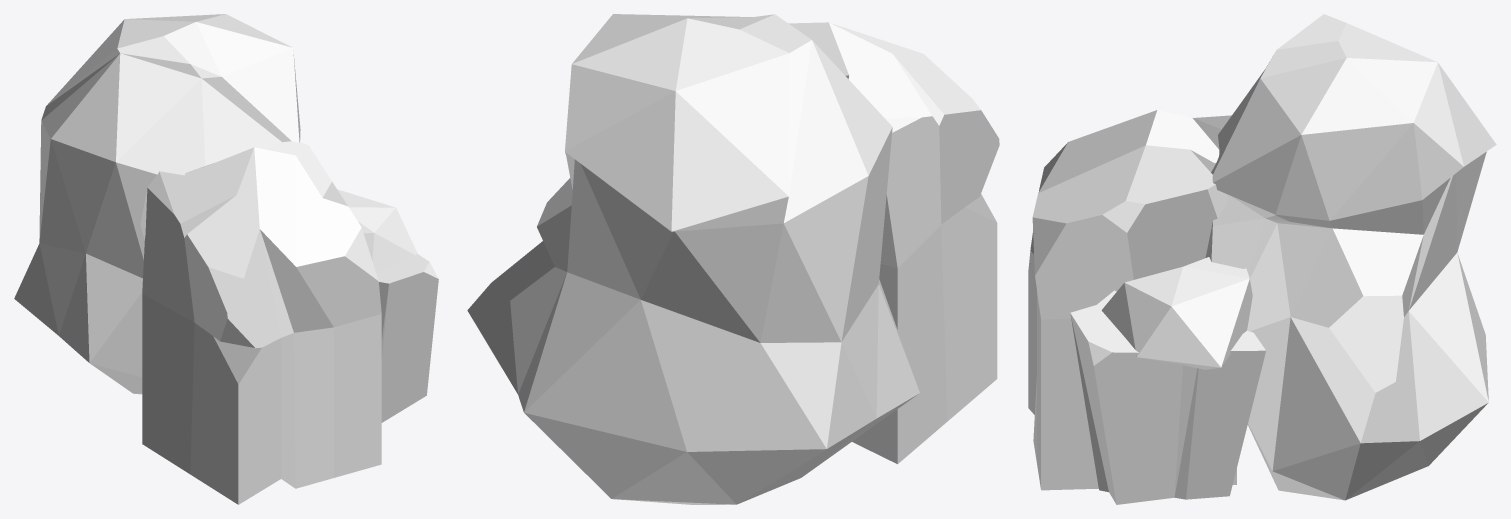
File: Big Rock.fbx
3 views of the same model, side by side, from view 1: azimuth 30°, elevation 25°; view 2: azimuth 150°, elevation 25°; view 3: azimuth 270°, elevation 25° (orthographic). The views are drawn at different scales.
Parts seen in each view (by area): view 1: M_Big Rock; view 2: M_Big Rock; view 3: M_Big Rock.
Part boxes in pixels (x1=…): M_Big Rock: x1=14, y1=14, x2=438, y2=504; M_Big Rock: x1=467, y1=14, x2=999, y2=504; M_Big Rock: x1=1028, y1=14, x2=1496, y2=504.
Size of the model in its own units: 361 by 420 by 419.
Materials: 1 (1 with a texture image).
